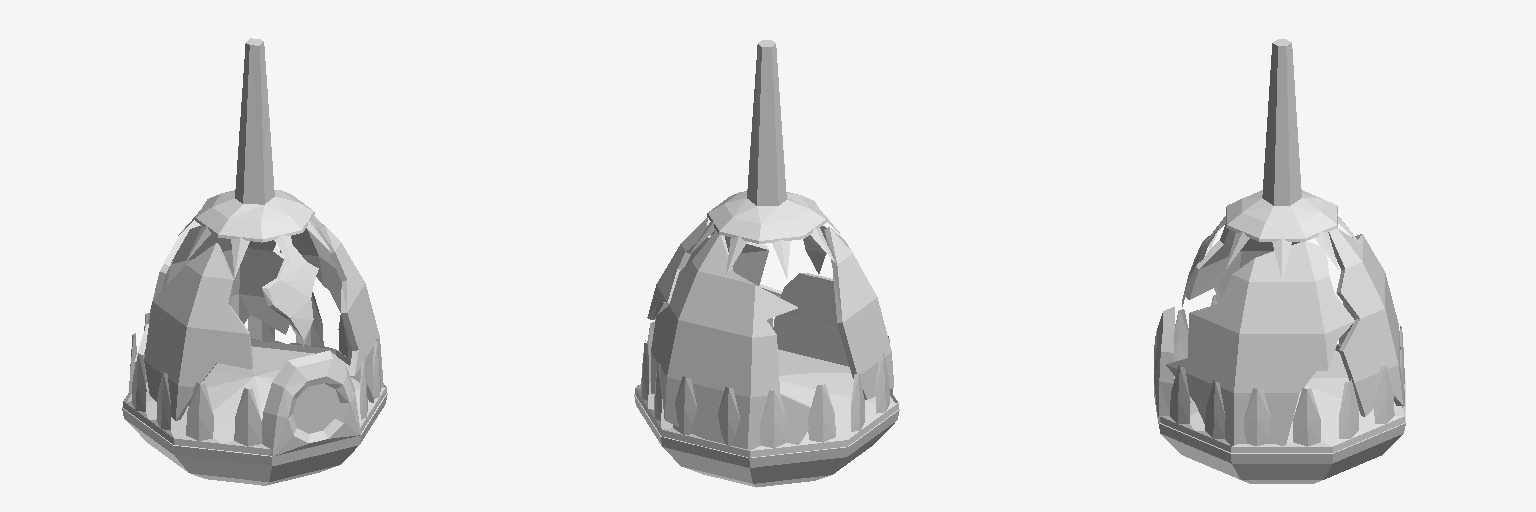
File: stg600_obj_pot_bp.obj
3 renders of one model, left to right at view 1: azimuth 30°, elevation 25°; view 2: azimuth 150°, elevation 25°; view 3: azimuth 270°, elevation 25°, orthographic.
Parts seen in each view (by area): view 1: polygon1, polygon9, polygon4, polygon0, polygon7, polygon8, polygon2, polygon6, polygon3; view 2: polygon8, polygon1, polygon4, polygon0, polygon9, polygon7, polygon3, polygon2; view 3: polygon7, polygon1, polygon0, polygon4, polygon8, polygon9, polygon3.
Part boxes in pixels (x1,y1,x2,y2): polygon1: (122, 346, 387, 485); polygon9: (144, 243, 253, 420); polygon4: (195, 38, 314, 242); polygon0: (123, 292, 386, 455); polygon7: (280, 216, 383, 402); polygon8: (134, 221, 289, 382); polygon2: (211, 366, 339, 433); polygon6: (262, 243, 318, 346); polygon3: (178, 202, 331, 277); polygon8: (651, 231, 810, 456); polygon1: (634, 273, 899, 487); polygon4: (707, 40, 826, 243); polygon0: (635, 318, 898, 457); polygon9: (824, 227, 893, 399); polygon7: (647, 217, 781, 320); polygon3: (689, 211, 839, 278); polygon2: (779, 368, 810, 399); polygon7: (1166, 241, 1354, 446); polygon1: (1154, 307, 1405, 483); polygon0: (1160, 295, 1404, 452); polygon4: (1226, 39, 1337, 241); polygon8: (1328, 228, 1403, 416); polygon9: (1186, 224, 1299, 302); polygon3: (1202, 215, 1359, 279).
Size of the model in its own units: 37.44 by 71.1 by 38.09.